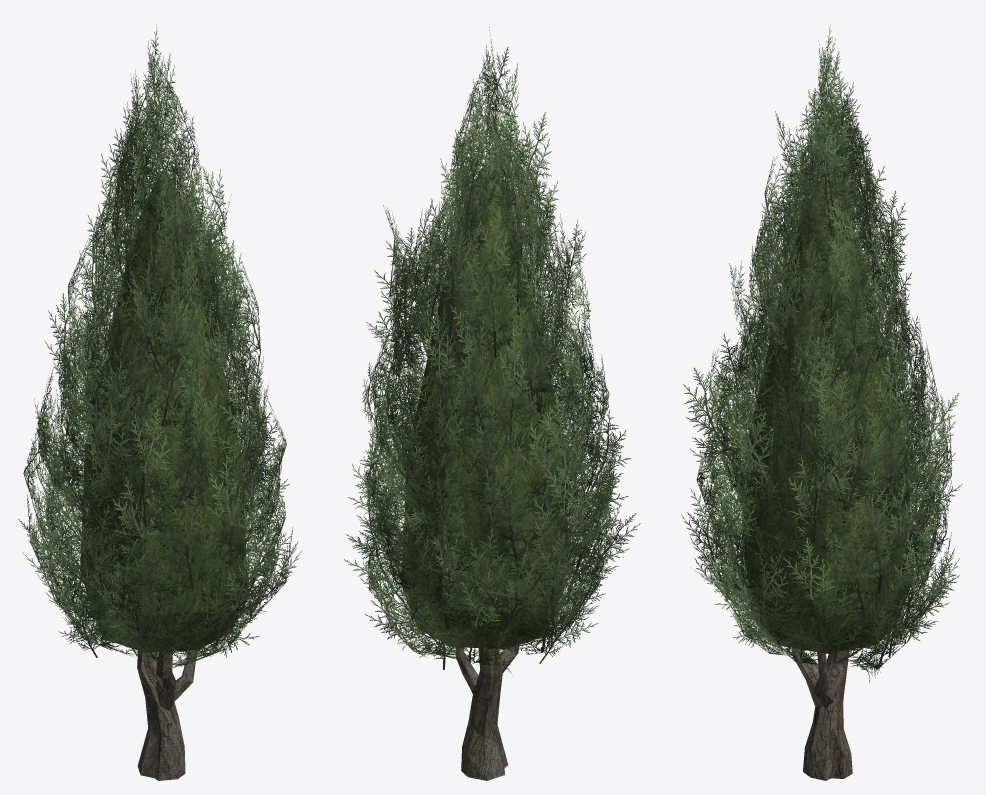
The model's file is bg_atm_tree_needletree02_sm_kyo.FBX.
3 views of the same model, side by side, from view 1: azimuth 30°, elevation 25°; view 2: azimuth 150°, elevation 25°; view 3: azimuth 270°, elevation 25° (orthographic).
Visible parts, largest first — view 1: bg_atm_tree_needletree02_sm_kyo; view 2: bg_atm_tree_needletree02_sm_kyo; view 3: bg_atm_tree_needletree02_sm_kyo.
Part boxes in pixels (<box>): bg_atm_tree_needletree02_sm_kyo: <box>18,24,301,780</box>; bg_atm_tree_needletree02_sm_kyo: <box>344,27,640,780</box>; bg_atm_tree_needletree02_sm_kyo: <box>681,25,962,780</box>.
Size of the model in its own units: 204 by 564 by 202.
